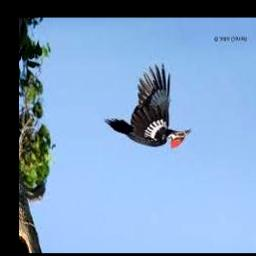Woodpecker: (104, 64, 191, 150)
